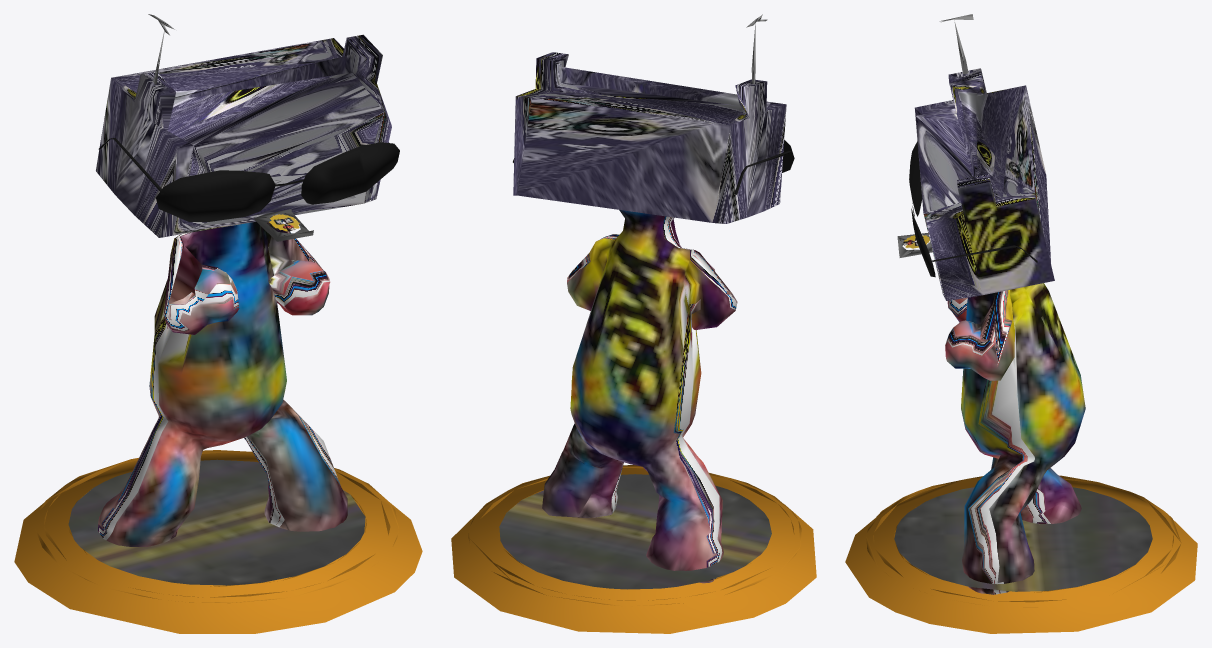
The picture shows the model from 3 angles, left to right: view 1: azimuth 30°, elevation 25°; view 2: azimuth 150°, elevation 25°; view 3: azimuth 270°, elevation 25°; orthographic projection. The views are drawn at different scales.
Size of the model in its own units: 1.43 by 2.25 by 1.43.
Materials: 9 (4 with a texture image).
